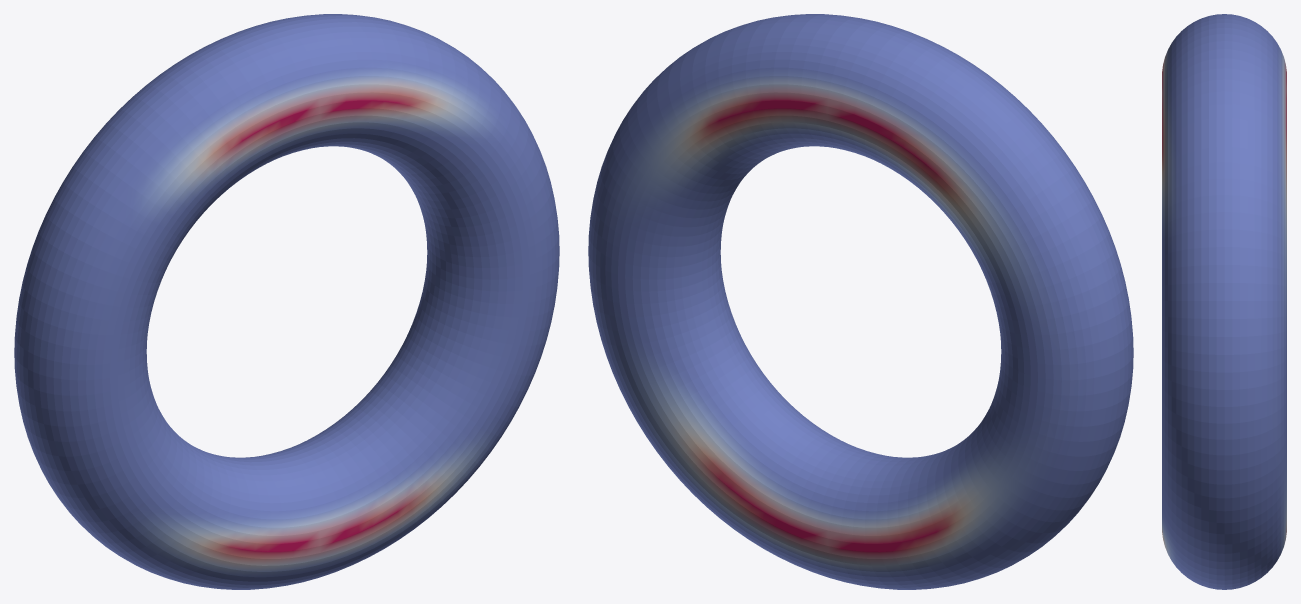
3 views of the same model, side by side, from view 1: azimuth 30°, elevation 25°; view 2: azimuth 150°, elevation 25°; view 3: azimuth 270°, elevation 25° (orthographic). The views are drawn at different scales.
Visible parts, largest first — view 1: world; view 2: world; view 3: world.
Part boxes in pixels (bbox=[...]): world: bbox=[14, 14, 559, 589]; world: bbox=[588, 14, 1133, 589]; world: bbox=[1162, 14, 1286, 589].
Bounding box in the file's own units: 15.33 × 15.33 × 3.33.
